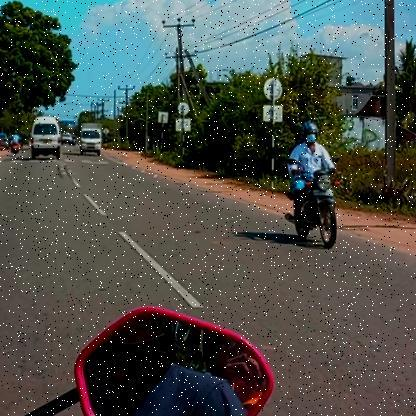motorcycle: (278, 169, 346, 255)
